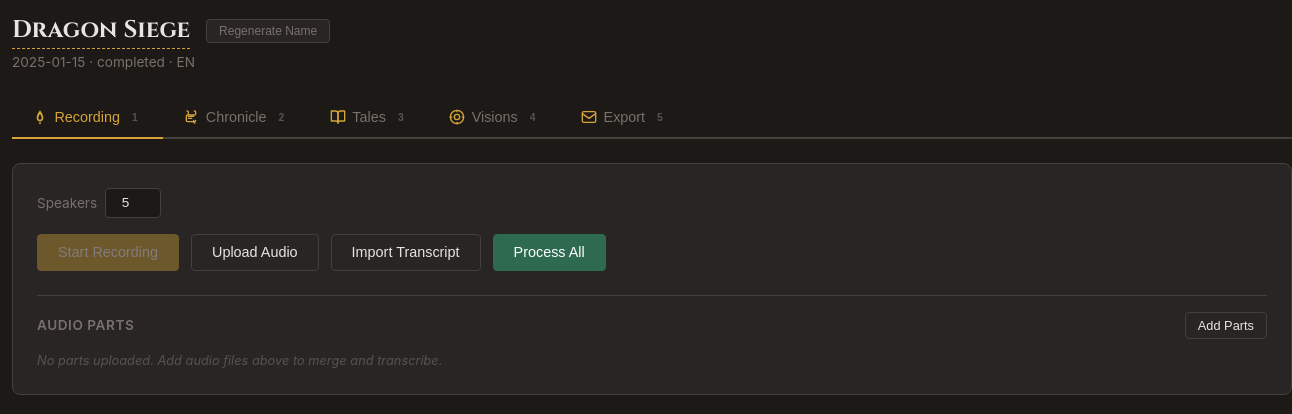
Scenario: SessionDetail › allows editing session name
What coordinates should you click on to do the following:
click the button "Dragon Siege"
I would click on:
 (101, 30)
Its box is [12, 12, 190, 49].
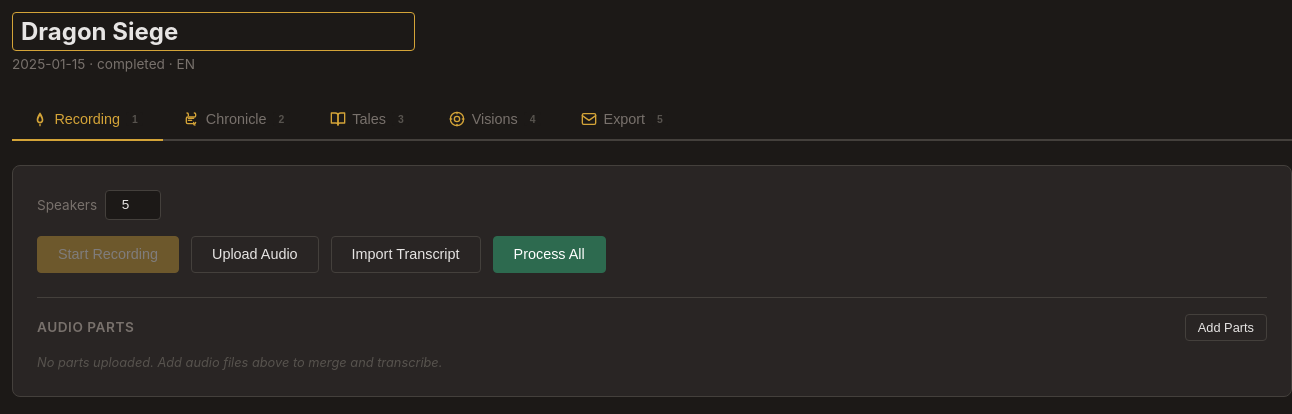
Expected: the field showing "Dragon Siege" is shown, [12, 12, 415, 51]
